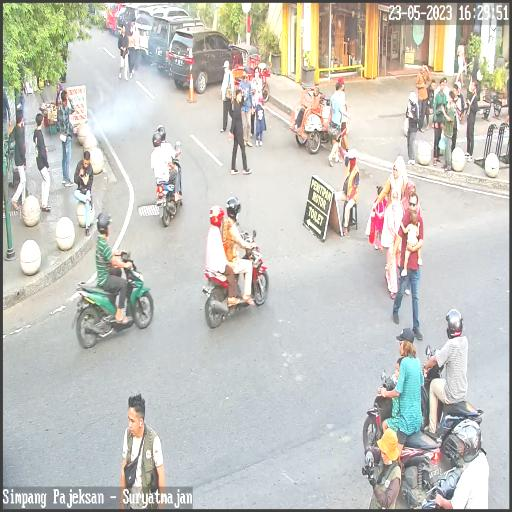mobil: (169, 26, 242, 97), (148, 10, 208, 76), (135, 5, 193, 61)
motor: (361, 367, 441, 512), (75, 249, 152, 356), (414, 343, 485, 443), (199, 234, 273, 323), (150, 143, 184, 227)
